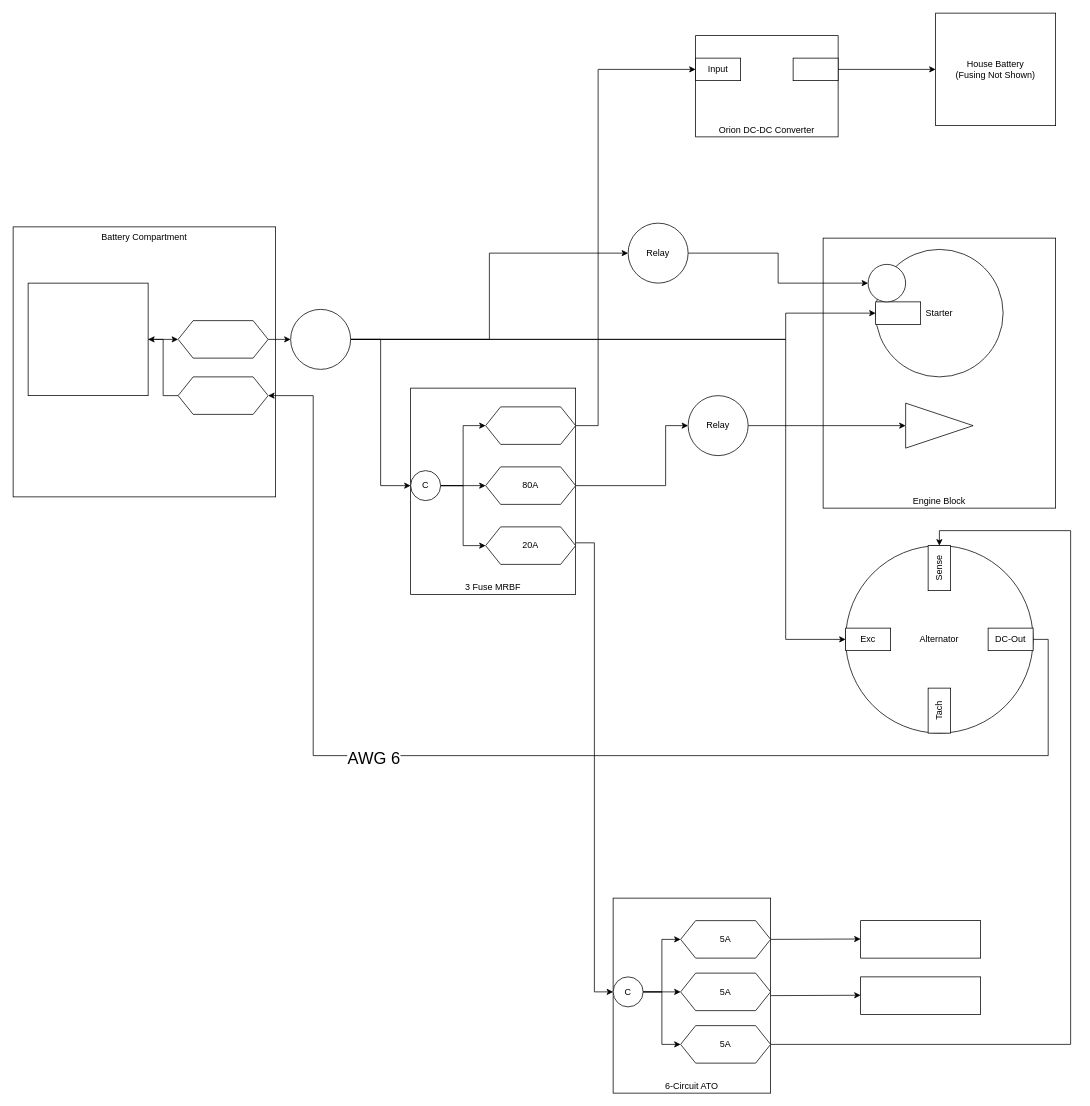
Image size: 1090x1106. Some labels were removed from this diagram. Here are the shapes that lost their labels. From the top down, the centre of each, then its label:
At [815,69]: "Output".
At [886,283]: "Sol".
At [898,312]: "V+".
At [87,339]: "Starter Battery".
At [222,339]: "400A ANL".
At [320,339]: "Batt. Switch".
At [222,395]: "150A".
At [530,425]: "50A".
At [939,425]: "Glow Plugs".
At [920,939]: "Starter Relay Button".
At [920,995]: "Glowplug Relay Button".
